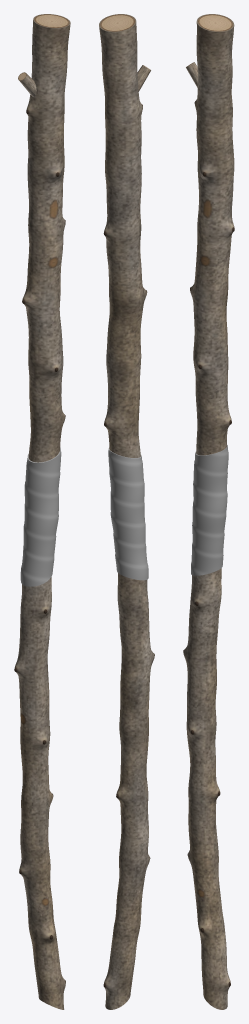
Rendered from stick-right.glb.
3 renders of one model, left to right at view 1: azimuth 30°, elevation 25°; view 2: azimuth 210°, elevation 25°; view 3: azimuth 330°, elevation 25°, orthographic.
Parts seen in each view (by area): view 1: TKA_Stick_Branch, TKA_Stick_Tape; view 2: TKA_Stick_Branch, TKA_Stick_Tape; view 3: TKA_Stick_Branch, TKA_Stick_Tape.
Part boxes in pixels (bbox=[...]): TKA_Stick_Branch: bbox=[14, 14, 70, 1009]; TKA_Stick_Tape: bbox=[20, 447, 61, 586]; TKA_Stick_Branch: bbox=[99, 14, 154, 1009]; TKA_Stick_Tape: bbox=[108, 447, 148, 580]; TKA_Stick_Branch: bbox=[183, 14, 234, 1009]; TKA_Stick_Tape: bbox=[191, 445, 228, 575].
Bounding box in the file's own units: 0.0486 × 0.9 × 0.038.
4 materials, 2 textured.
